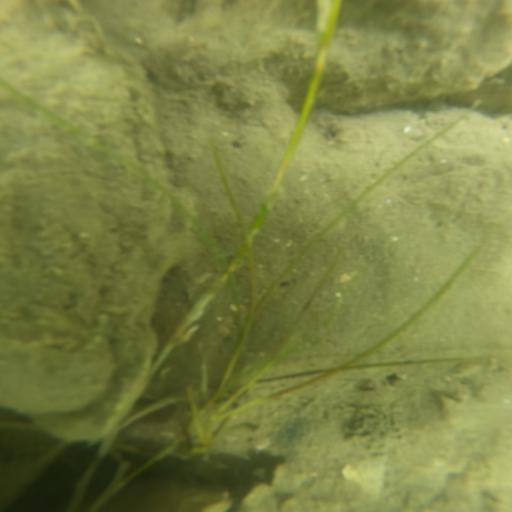Oyster-Closed: (232, 352, 512, 512), (86, 3, 337, 110), (312, 3, 512, 106)
Oyster-Open: (1, 8, 181, 445)
